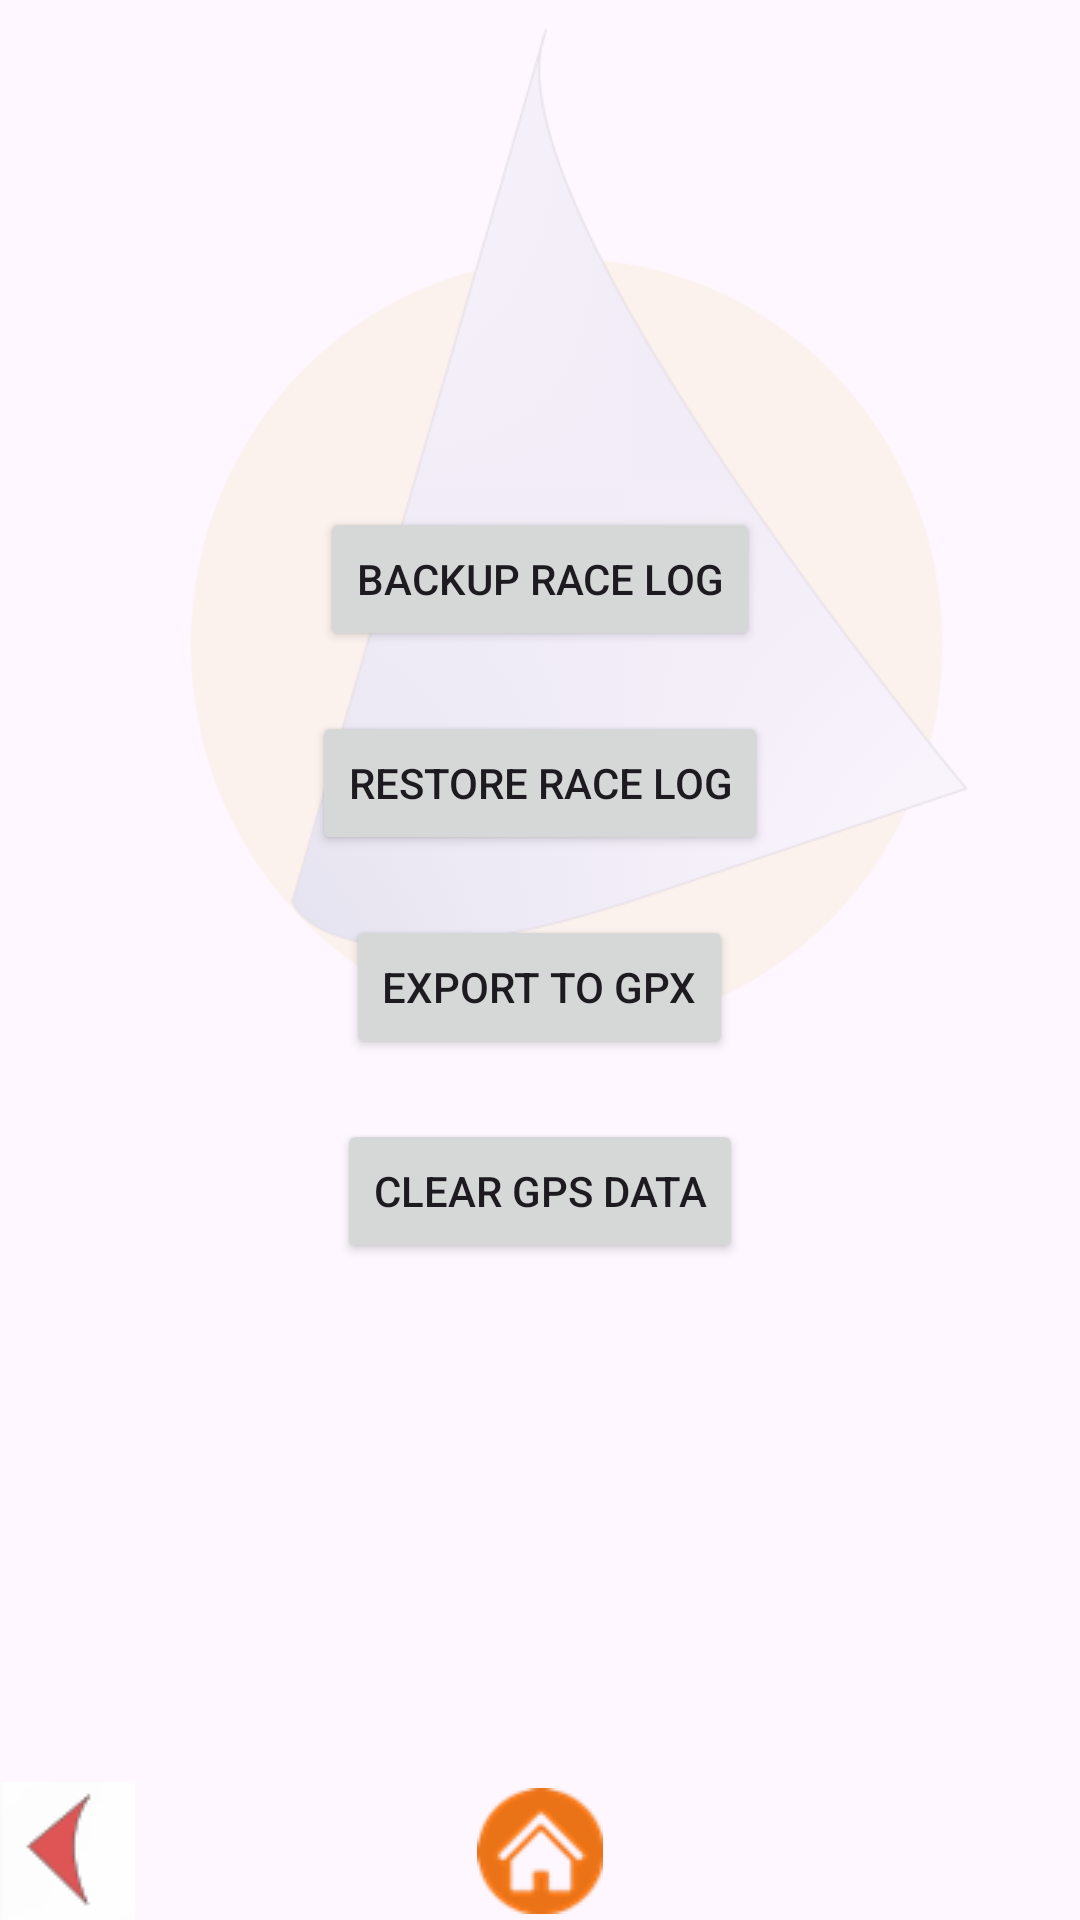

Icons on this 1080w x 1920h Android screen, each with its box as (x1, y1, x2, y2):
Home: (477, 1788, 603, 1914)
Left Nav: (26, 1793, 91, 1905)
